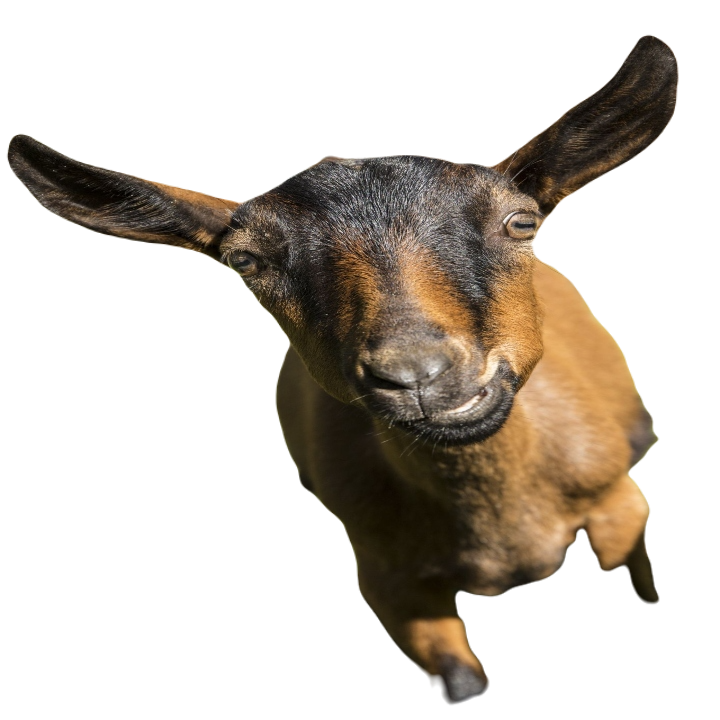Goat: (2, 33, 680, 706)
